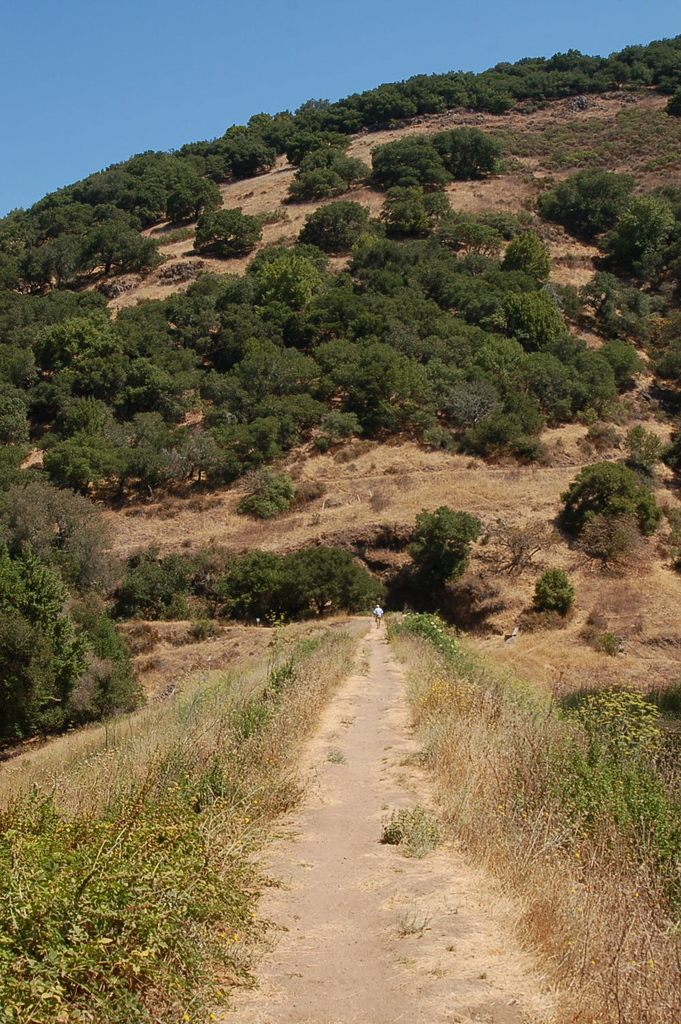Tree: (0, 34, 680, 751), (561, 462, 655, 557)
